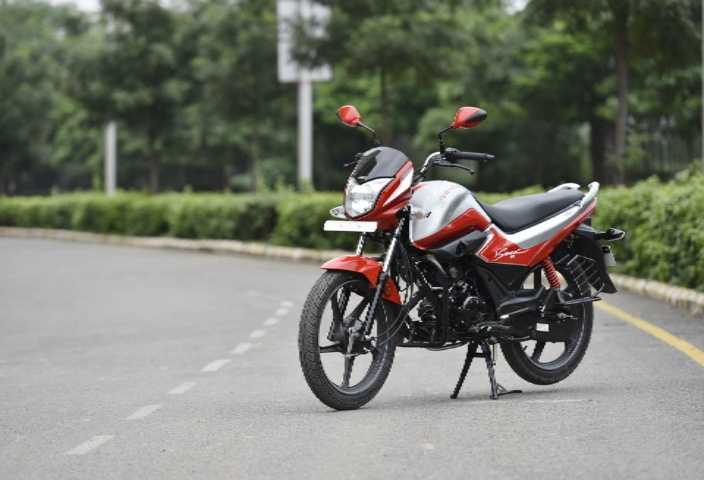motorcycle: (275, 95, 626, 422)
